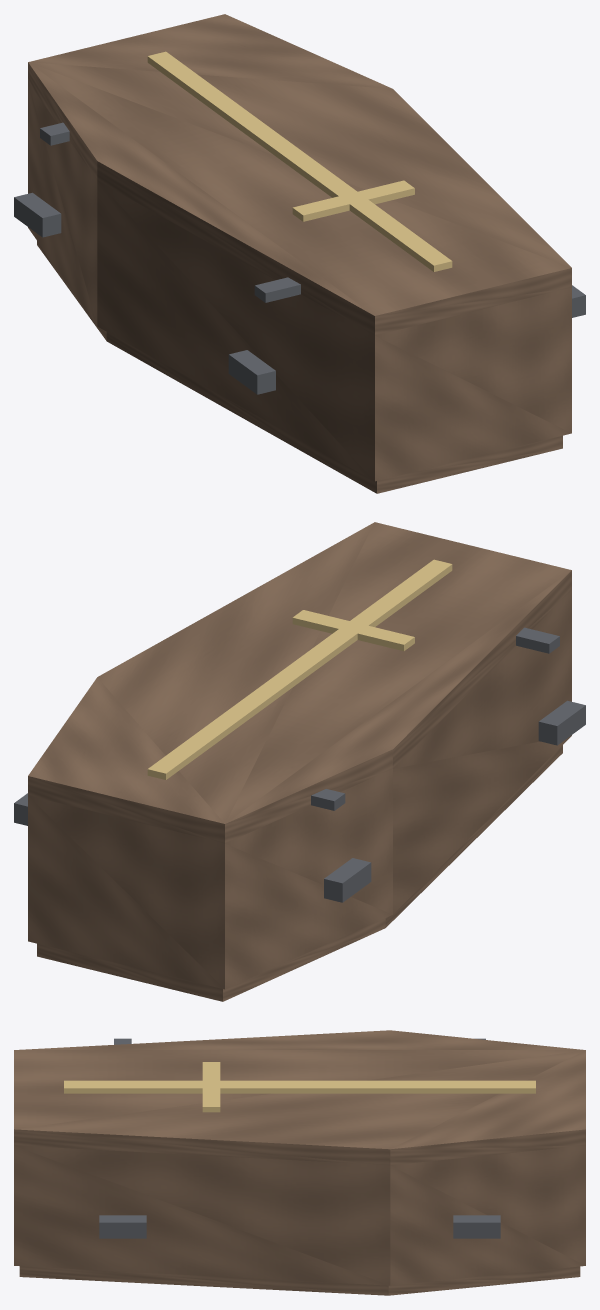
File: vampire-crypt-and-gothic-cathedral-coffin-closed-b418ef83__23018.glb
3 renders of one model, top to bottom at view 1: azimuth 30°, elevation 25°; view 2: azimuth 150°, elevation 25°; view 3: azimuth 270°, elevation 25°, orthographic. The views are drawn at different scales.
Visible parts, largest first — view 1: coffin-lid/timber, coffin-closed, coffin-lid/gold, coffin-lid/iron; view 2: coffin-lid/timber, coffin-closed, coffin-lid/gold, coffin-lid/iron; view 3: coffin-closed, coffin-lid/timber, coffin-lid/gold.
Boxes of the visible parts, box(x1,y1,x2,y2) form: coffin-lid/timber: box(28, 14, 571, 335); coffin-closed: box(14, 82, 585, 493); coffin-lid/gold: box(147, 51, 452, 271); coffin-lid/iron: box(40, 122, 300, 302); coffin-lid/timber: box(28, 522, 571, 843); coffin-closed: box(14, 590, 585, 1001); coffin-lid/gold: box(147, 559, 452, 779); coffin-lid/iron: box(311, 627, 559, 810); coffin-closed: box(14, 1145, 585, 1295); coffin-lid/timber: box(14, 1030, 585, 1165); coffin-lid/gold: box(64, 1062, 535, 1112).
Bounding box in the file's own units: 1.06 × 0.5799 × 1.94.
Materials: 4 (2 with a texture image).
